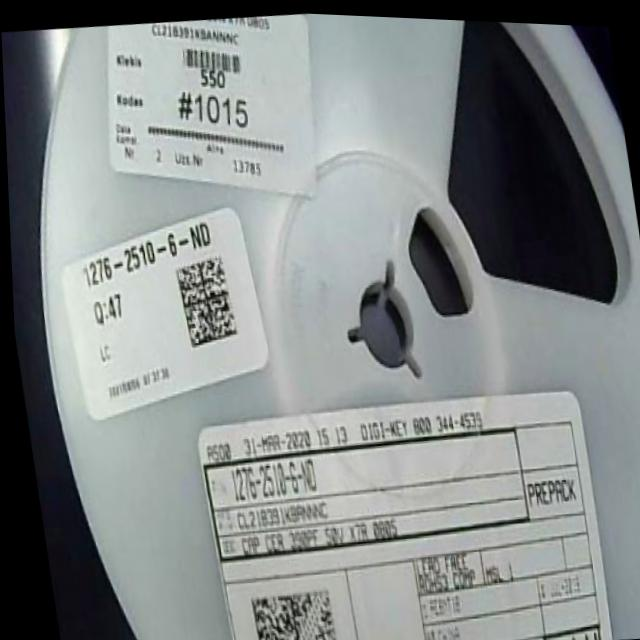datamatrix: (171, 247, 238, 352), (242, 577, 337, 640)
